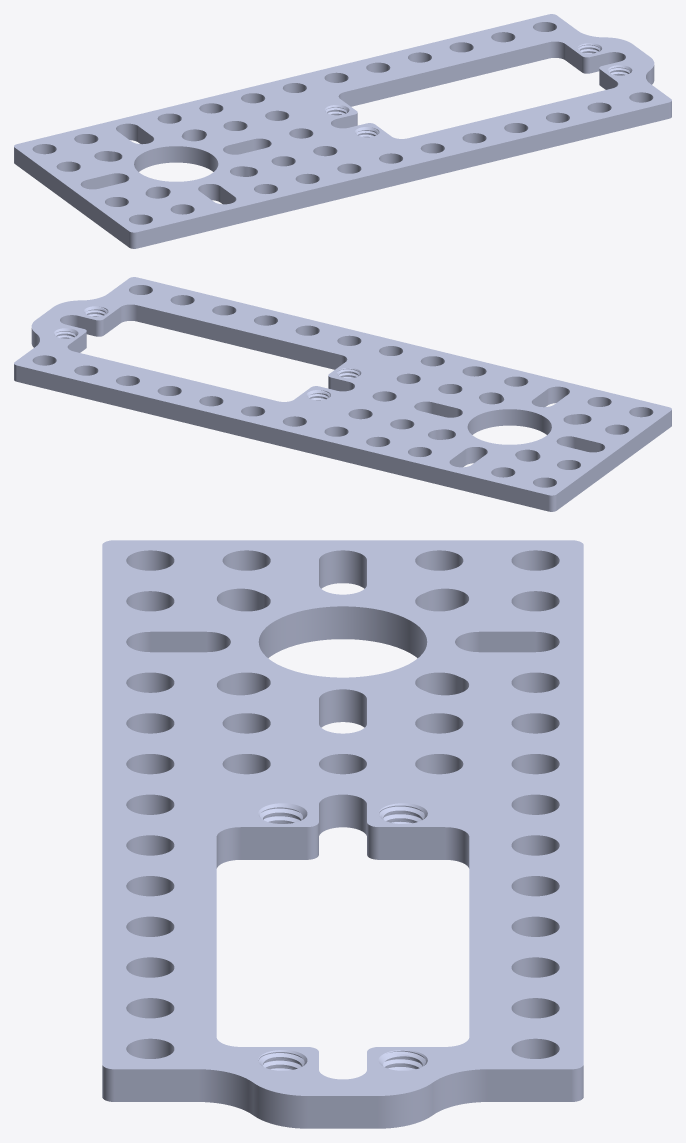
File: _1800_0040_0001_STEP_1_.obj
3 renders of one model, top to bottom at view 1: azimuth 30°, elevation 25°; view 2: azimuth 150°, elevation 25°; view 3: azimuth 270°, elevation 25°, orthographic. The views are drawn at different scales.
Parts seen in each view (by area): view 1: mesh3048, mesh2948, mesh2937, mesh2901, mesh2988; view 2: mesh3048, mesh2947, mesh2940, mesh2901, mesh2988; view 3: mesh3048, mesh2989, mesh2907, mesh2908, mesh2904, mesh2889, mesh2891, mesh2902, mesh2906, mesh2903, mesh2905, mesh2939 (+4 smaller).
Part boxes in pixels (box(x1,y1,x2,y2)): mesh3048: box(14, 14, 671, 232); mesh2948: box(137, 102, 668, 248); mesh2937: box(344, 42, 548, 106); mesh2901: box(14, 148, 128, 247); mesh2988: box(155, 146, 218, 171); mesh3048: box(14, 277, 671, 495); mesh2947: box(17, 365, 548, 511); mesh2940: box(137, 305, 341, 369); mesh2901: box(557, 411, 671, 510); mesh2988: box(467, 409, 530, 434); mesh3048: box(102, 540, 583, 1095); mesh2989: box(258, 606, 427, 658); mesh2907: box(114, 1069, 198, 1101); mesh2908: box(487, 1069, 571, 1101); mesh2904: box(308, 1096, 377, 1128); mesh2889: box(240, 827, 306, 859); mesh2891: box(379, 827, 445, 859); mesh2902: box(432, 1069, 487, 1114); mesh2906: box(198, 1069, 253, 1114); mesh2903: box(378, 1083, 432, 1128); mesh2905: box(253, 1083, 307, 1128); mesh2939: box(319, 794, 366, 835).
Bounding box in the file's own units: 0.1093 × 0.003 × 0.04.
